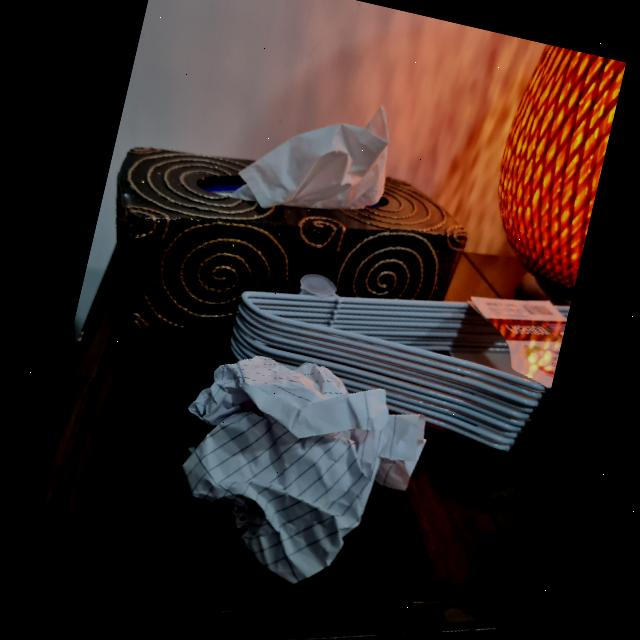trash: (152, 337, 436, 599)
